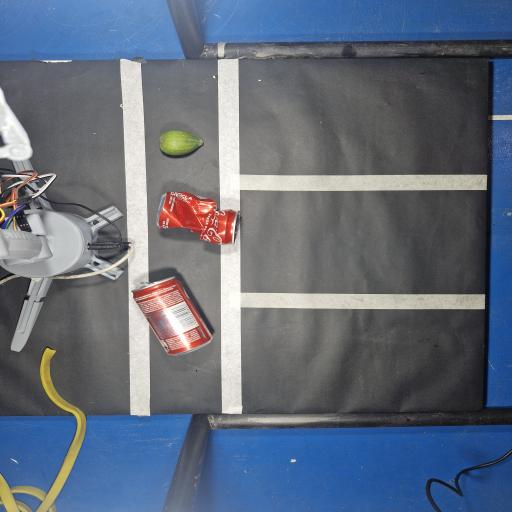higo: (159, 131, 203, 155)
lata: (132, 276, 212, 355)
lata_defectuoso: (158, 192, 240, 244)
